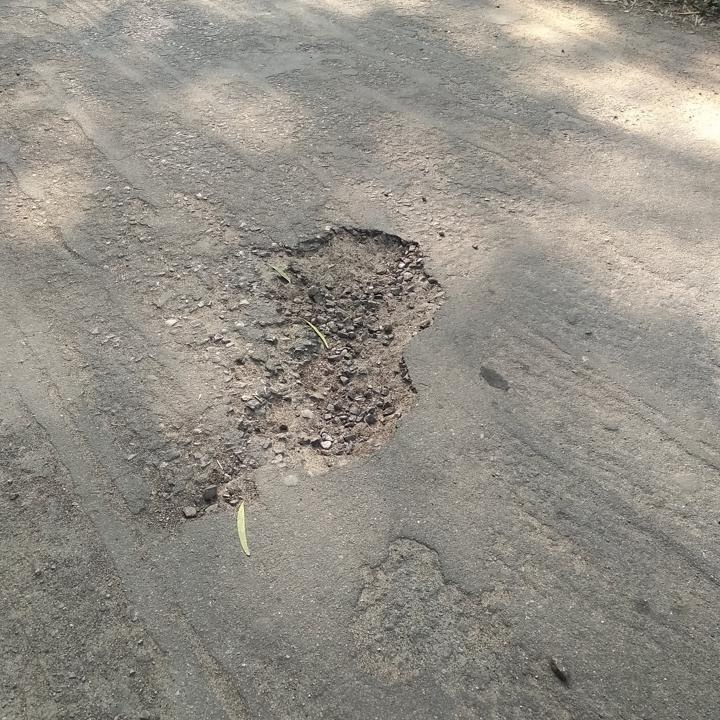pothole: (243, 222, 451, 475)
